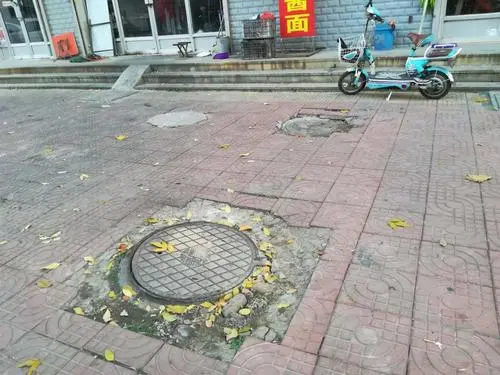circle: (81, 197, 321, 357)
